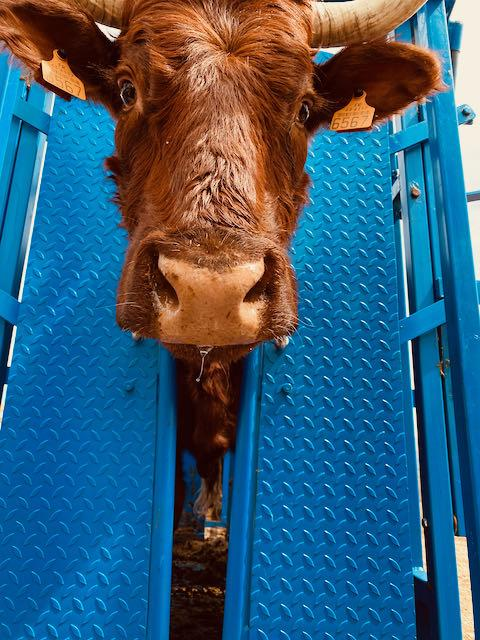muzzles: (108, 244, 316, 358)
